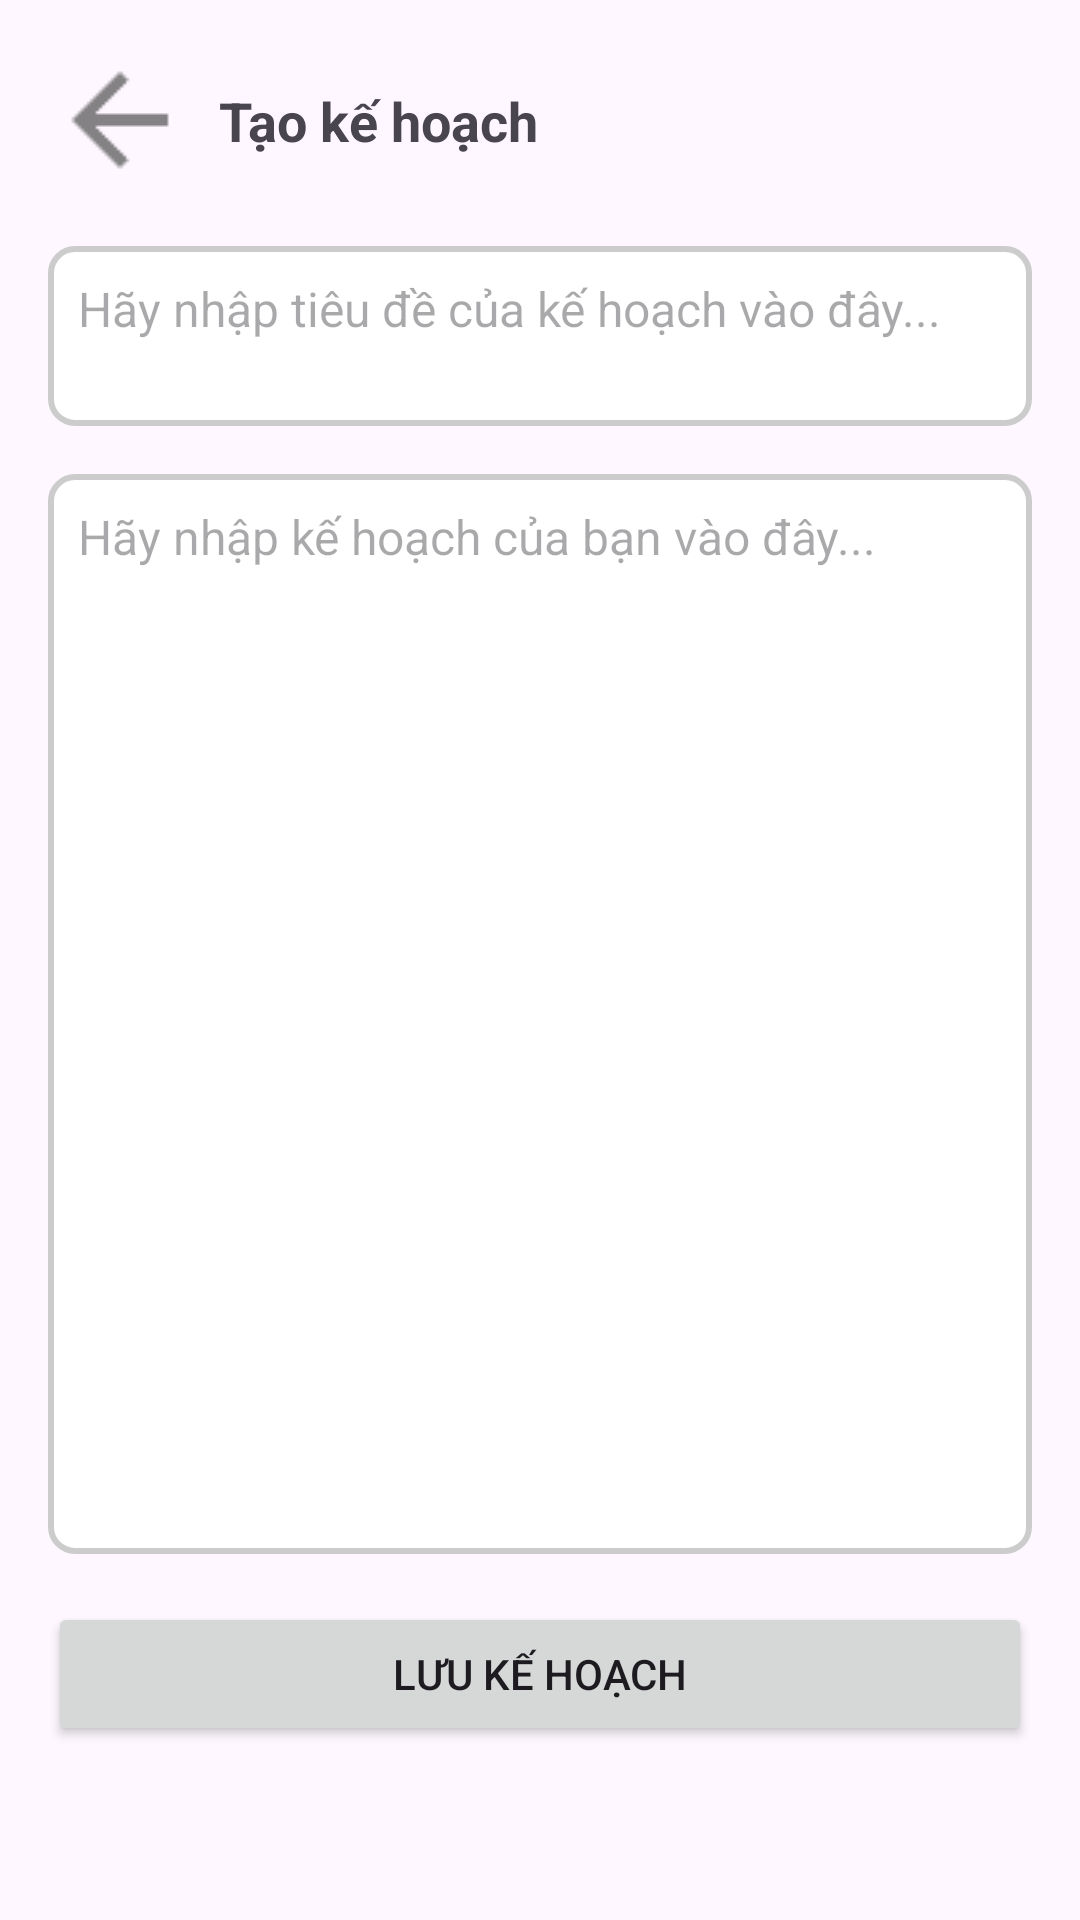

Locate icon controls on the screen. Image size 1080 × 1920, boxes as (x1, y1, x2, y2).
back arrow: (72, 72, 169, 168)
